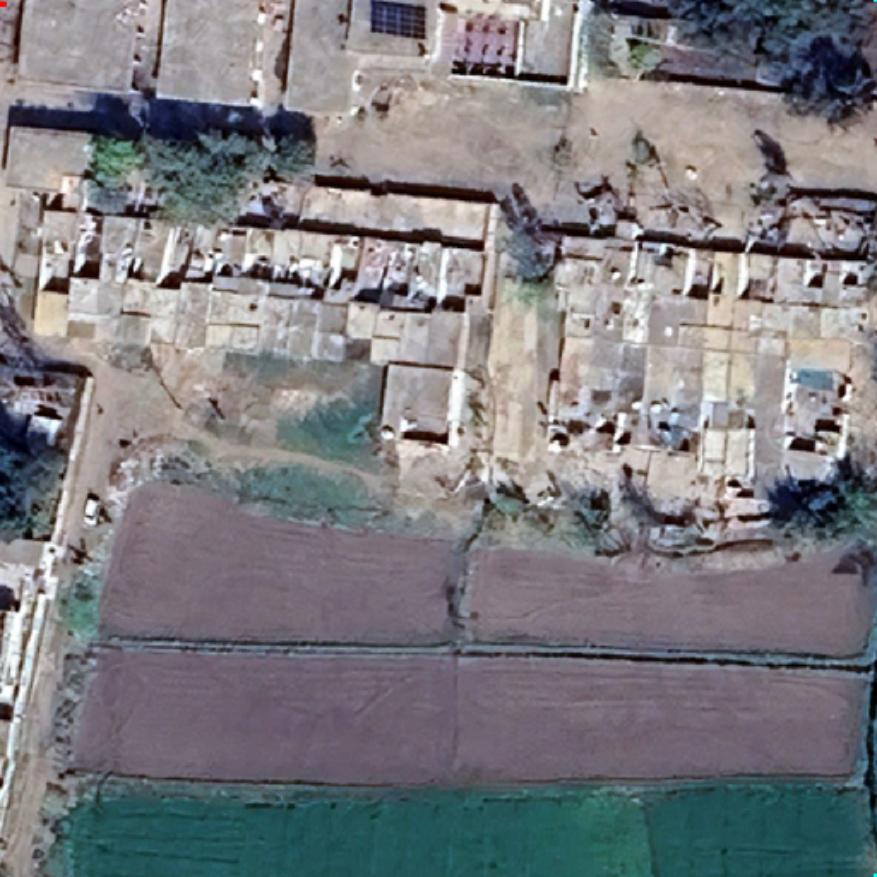Solarpanel: (365, 0, 431, 44)
